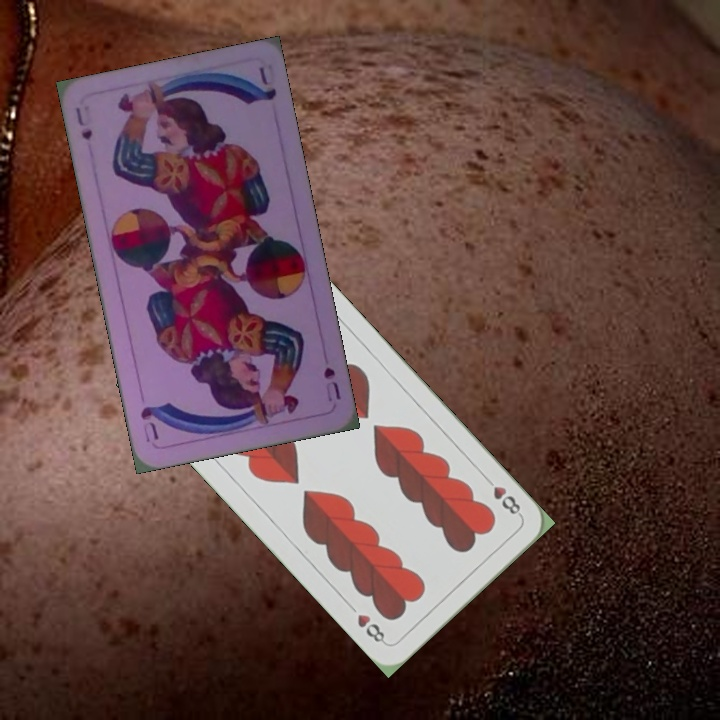H8: (480, 472, 525, 520)
SU: (71, 103, 95, 144), (319, 363, 343, 403)
